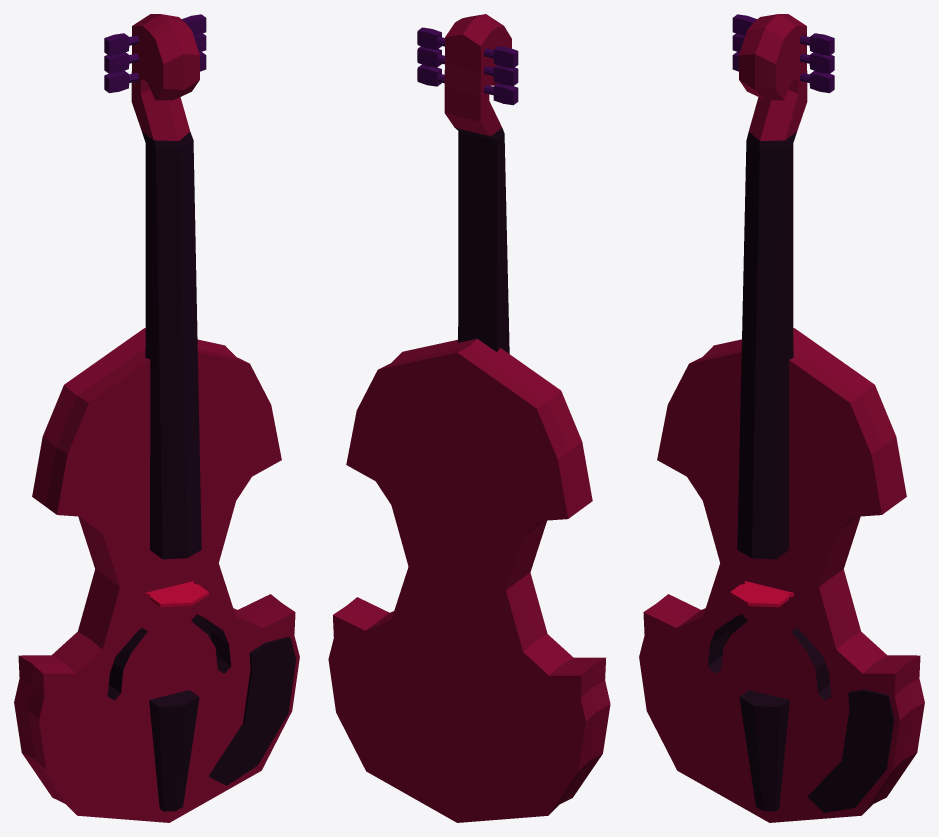
Rendered from Violin_01.fbx.
The picture shows the model from 3 angles, left to right: view 1: azimuth 30°, elevation 25°; view 2: azimuth 150°, elevation 25°; view 3: azimuth 330°, elevation 25°; orthographic projection.
Parts seen in each view (by area): view 1: Violin_01; view 2: Violin_01; view 3: Violin_01.
Part boxes in pixels (left/top/right/bottom): Violin_01: left=14, top=14, right=299, bottom=822; Violin_01: left=328, top=14, right=610, bottom=822; Violin_01: left=639, top=14, right=924, bottom=822.
Bounding box in the file's own units: 3.6 × 10.59 × 1.11.
